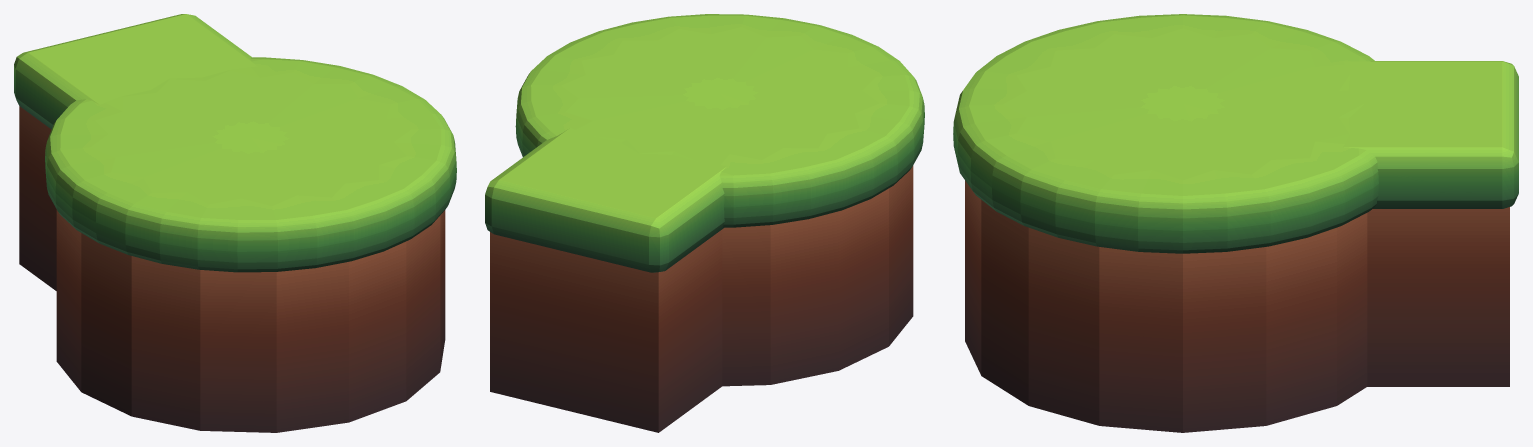
File: round.fbx
3 views of the same model, side by side, from view 1: azimuth 30°, elevation 25°; view 2: azimuth 150°, elevation 25°; view 3: azimuth 270°, elevation 25° (orthographic). The views are drawn at different scales.
Parts seen in each view (by area): view 1: Cylinder.001; view 2: Cylinder.001; view 3: Cylinder.001.
Part boxes in pixels (<box>): Cylinder.001: <box>14,14,456,432</box>; Cylinder.001: <box>485,14,924,432</box>; Cylinder.001: <box>953,14,1518,432</box>.
Size of the model in its own units: 4.21 by 2.4 by 5.19.
